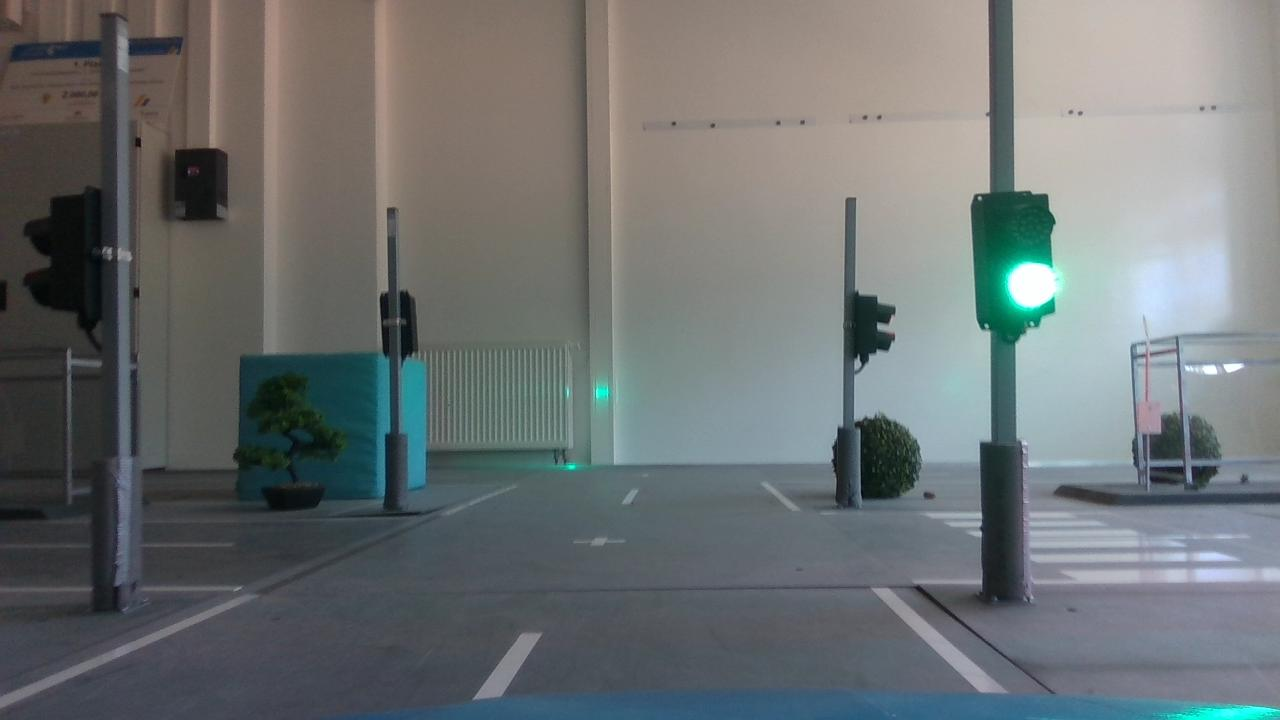traffic_light_green: (959, 183, 1076, 340)
